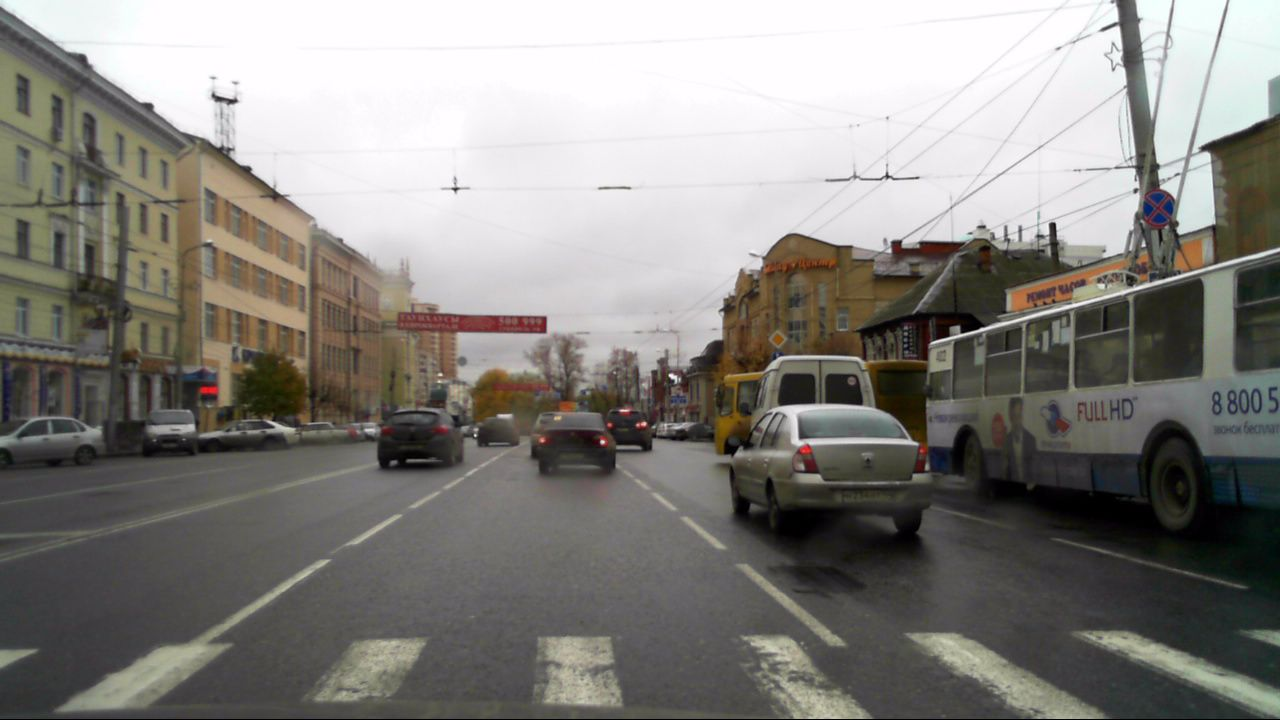No Parking: (1140, 189, 1176, 228)
